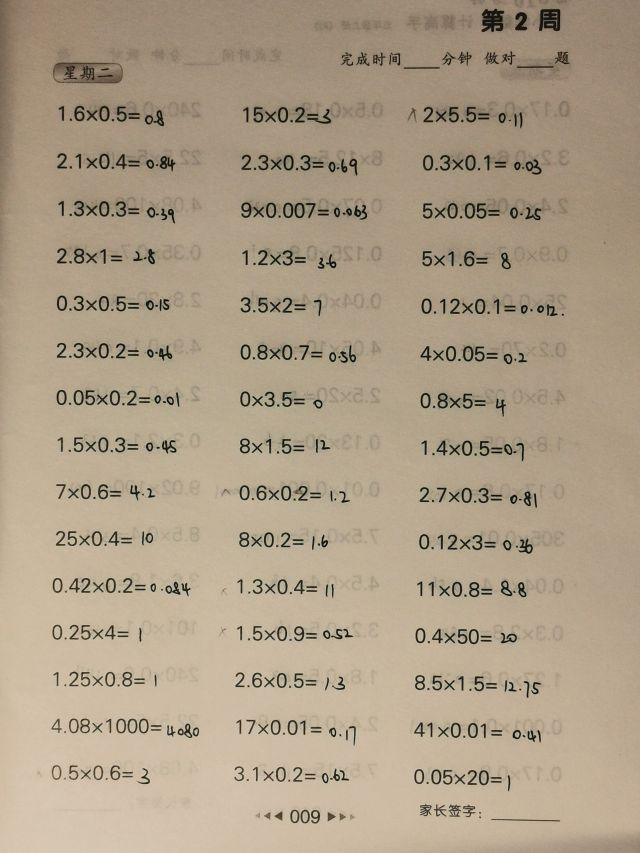equation: (47, 713, 203, 740), (52, 100, 170, 133), (416, 293, 561, 319), (48, 573, 194, 598), (233, 714, 361, 742), (53, 196, 179, 224), (410, 671, 544, 697), (236, 197, 370, 223), (237, 149, 361, 177), (403, 101, 527, 129), (417, 149, 545, 176), (51, 385, 183, 411), (410, 718, 544, 743), (236, 340, 359, 367), (418, 197, 545, 223), (52, 148, 179, 174), (415, 483, 541, 509), (219, 481, 353, 505), (414, 530, 537, 556), (409, 762, 515, 792), (417, 434, 528, 462), (52, 338, 176, 363), (229, 761, 352, 786), (52, 291, 174, 316), (54, 433, 181, 457), (230, 667, 349, 692), (416, 341, 530, 367), (234, 622, 357, 646), (47, 759, 154, 786), (414, 577, 531, 601), (49, 667, 161, 692), (415, 388, 510, 416), (238, 245, 340, 271), (53, 244, 159, 269), (412, 624, 522, 648), (417, 245, 514, 272), (233, 574, 337, 599), (236, 432, 335, 458), (47, 619, 145, 645), (52, 527, 158, 551), (53, 480, 159, 504), (238, 101, 335, 127), (235, 527, 332, 552), (235, 386, 326, 412), (236, 292, 325, 318)
